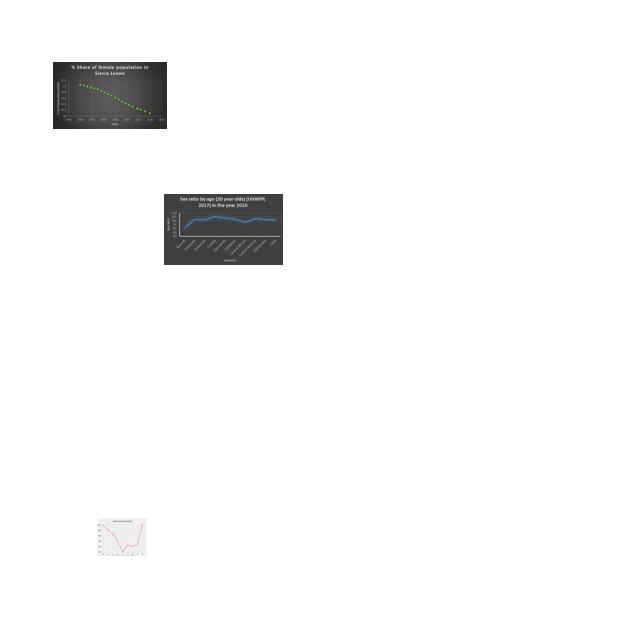Graph: (164, 194, 283, 265), (53, 62, 167, 129), (97, 518, 147, 556)
